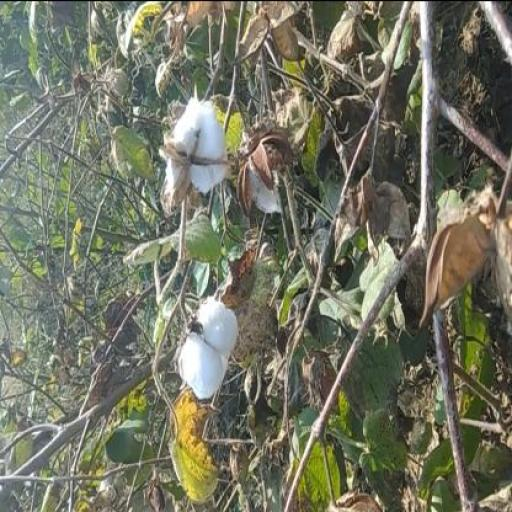cotton_ready: (155, 88, 236, 206), (176, 284, 240, 408)
